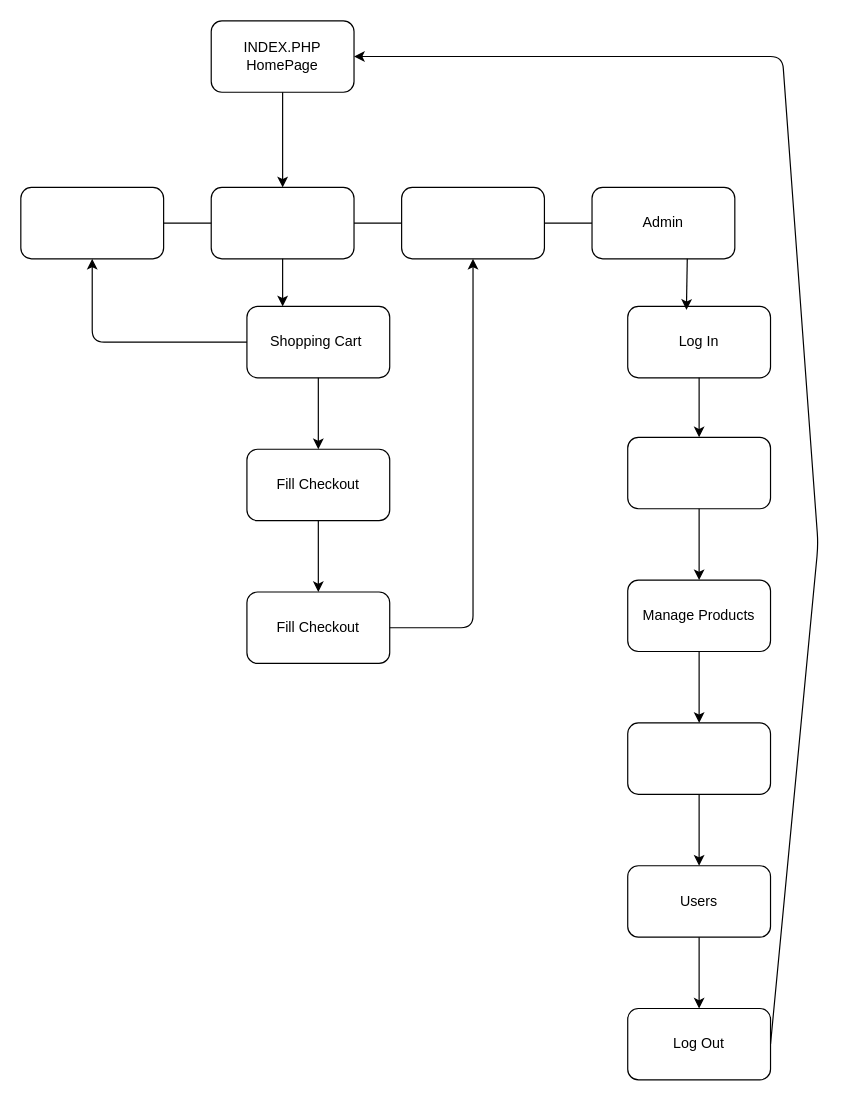
Image size: 848x1101. Some labels were removed from this diagram. The centre of each missing label's shape, as x and y in pixels:
"Admin Dashboard" belongs at pixel 699 472.
"Cart Products" belongs at pixel 282 222.
"Order History" belongs at pixel 472 222.
"Orders" belongs at pixel 699 758.
"Products Display" belongs at pixel 92 222.
